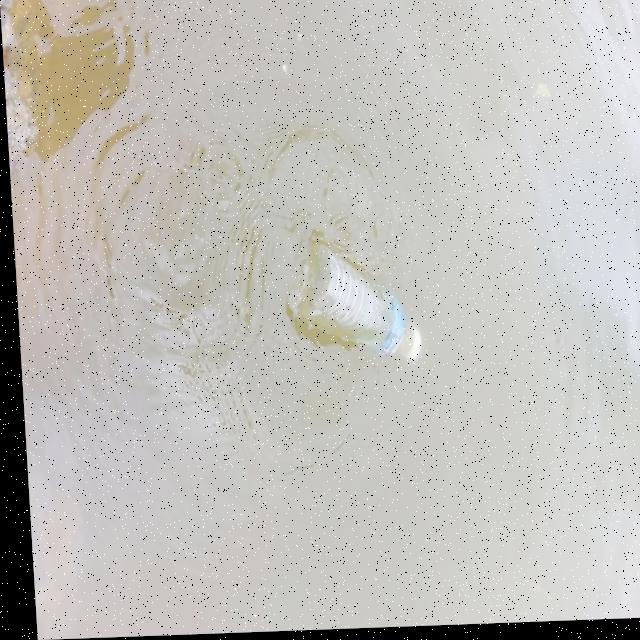waterbottle: (272, 234, 426, 390)
